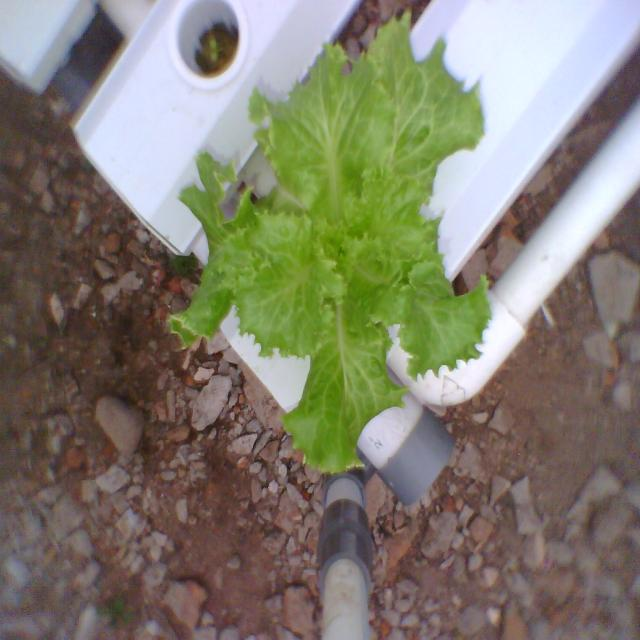FN: (159, 8, 505, 486)
